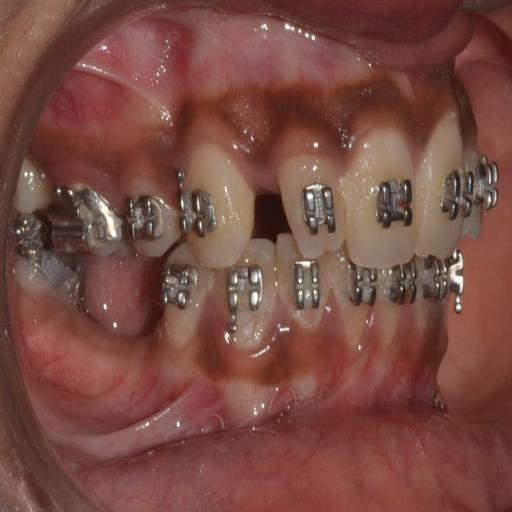correct_brace: (172, 164, 221, 244), (299, 176, 338, 242), (374, 170, 415, 231)
incorrect_brace: (277, 148, 347, 262)
